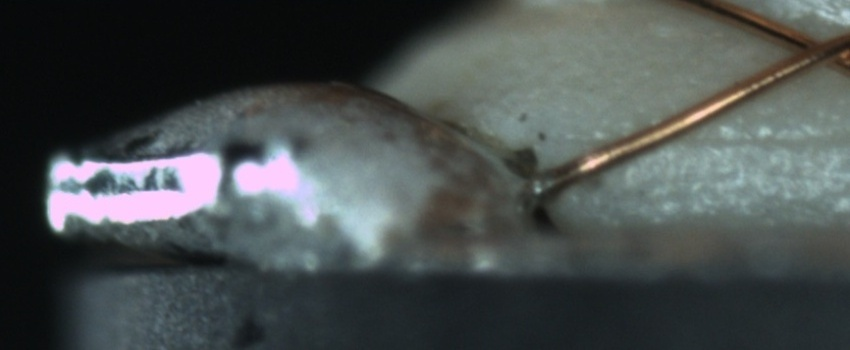CL: (773, 16, 850, 78)
DL: (609, 106, 846, 173)
